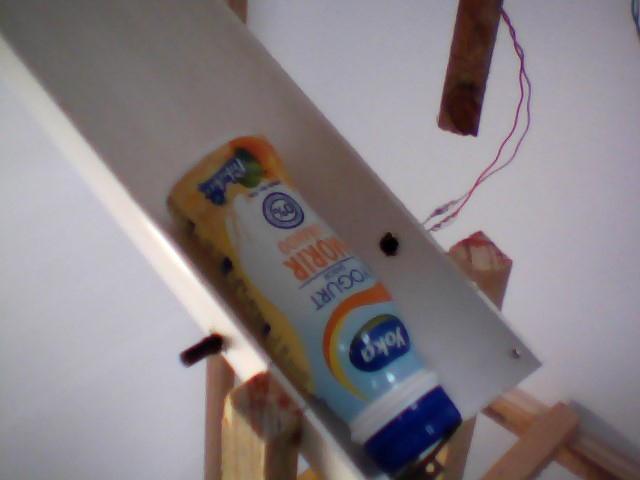plastico: (160, 126, 470, 469)
